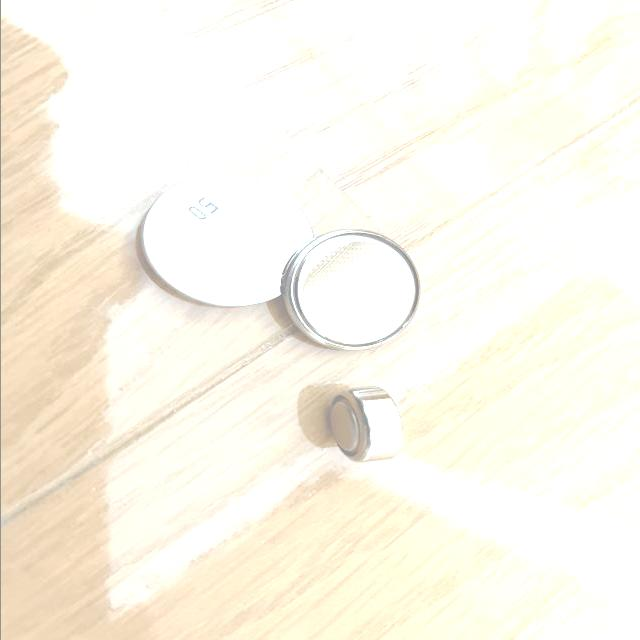COIN: (134, 172, 315, 308), (280, 228, 426, 352), (326, 382, 404, 467)
